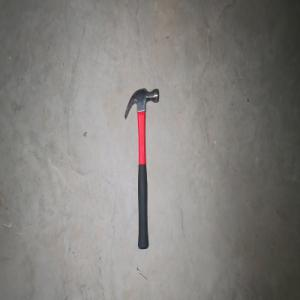Hammer: (123, 86, 159, 251)
